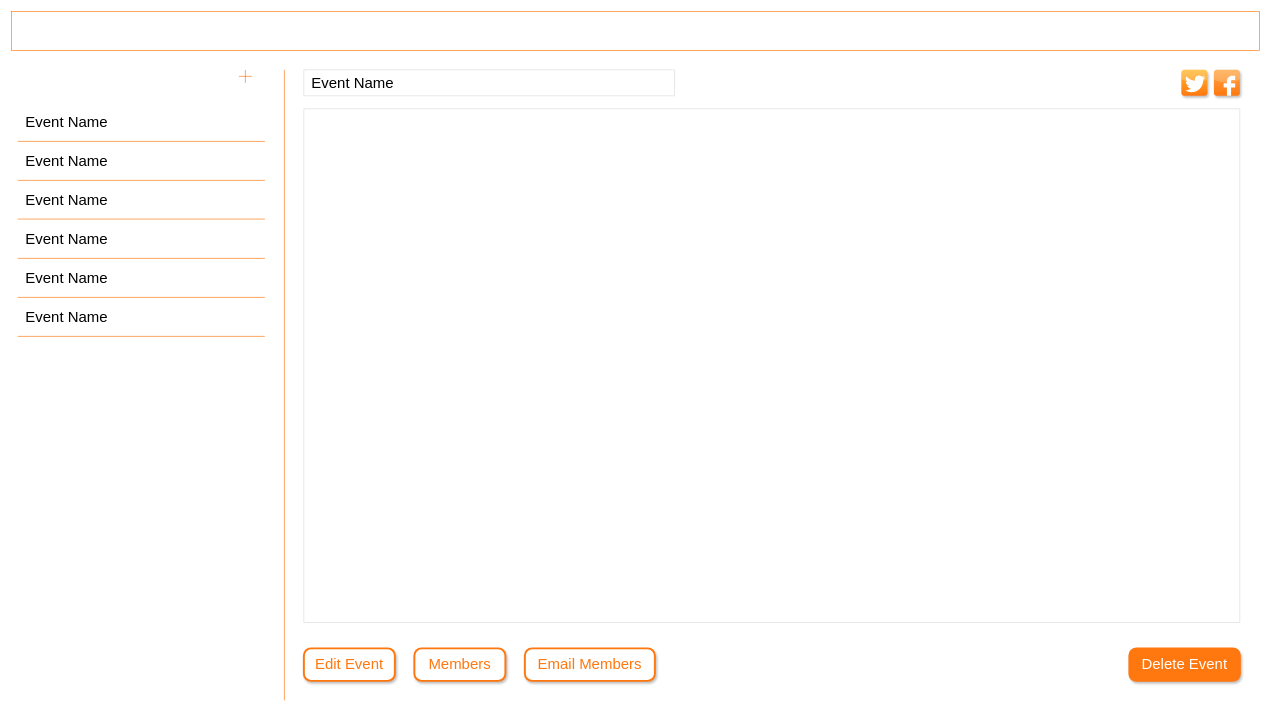
This 1271x725 diagram has some shape labels left out. The shapes that lost their labels are listed below. From the top down, each one's centre as x and y in pixels, then its label:
At (x=635, y=30): "Navbar".
At (x=771, y=365): "Event Description".
